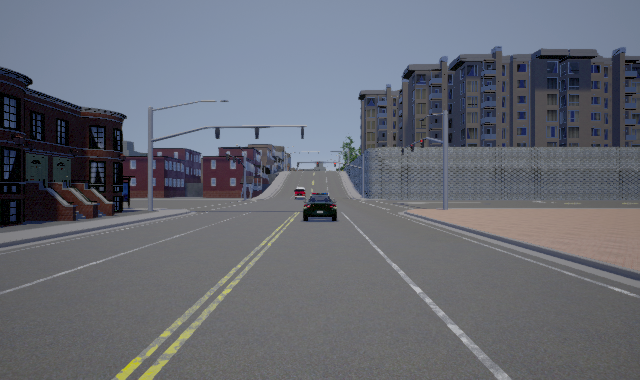vehicle: (301, 187, 337, 221), (292, 186, 307, 202)
